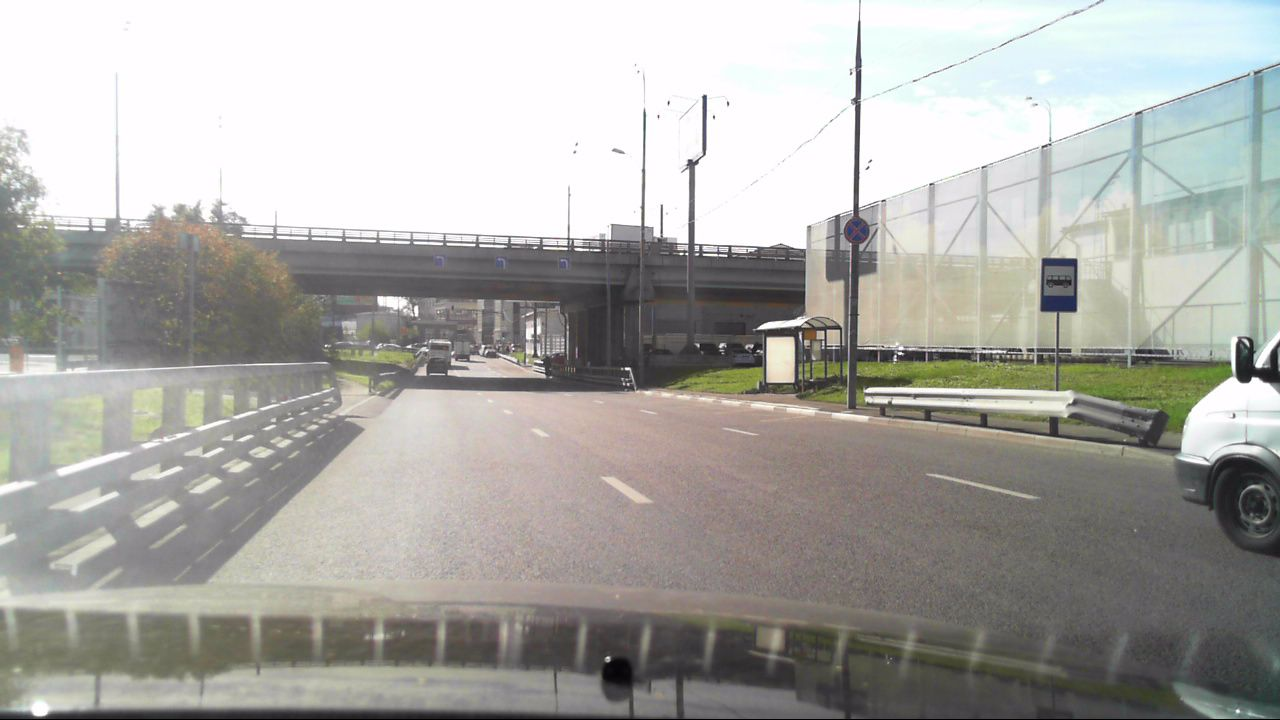No Parking: (842, 216, 870, 245)
